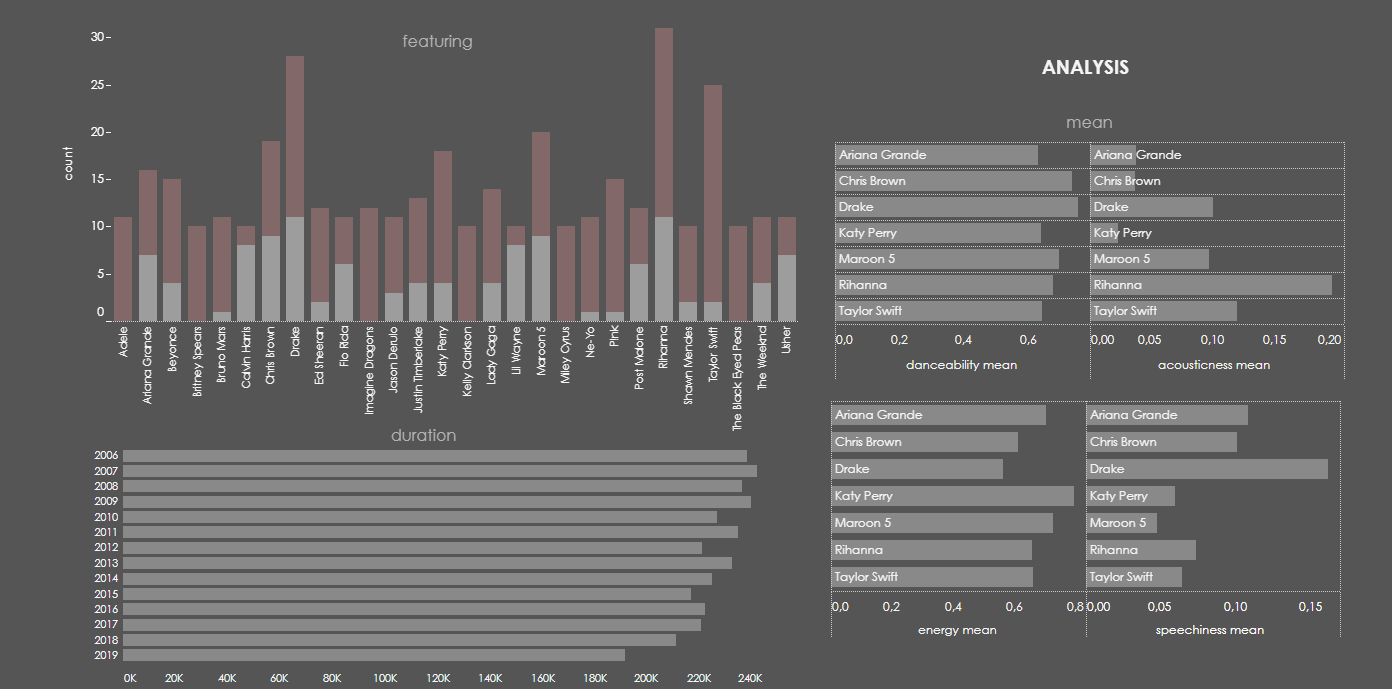

This screenshot's page, from the dashboard's own definition file:
{"tool":"tableau","page":{"name":"03","canvas":[1000,1000],"units":"permille","ordinal":2},"visuals":[{"type":"text","box":[268.4,22,93.5,92.9]},{"type":"worksheet","title":"feat","mark":"Bar","rows":["Number of Records"],"cols":["main_artist"],"box":[41.6,23.7,535.1,670.6]},{"type":"text","box":[659.7,47.3,248.5,113.2]},{"type":"worksheet","title":"mean_1","mark":"Bar","rows":["main_artist"],"cols":["danceability","acousticness"],"box":[602.6,158.8,368.8,400.3]},{"type":"worksheet","title":"mean_2","mark":"Bar","rows":["main_artist"],"cols":["energy","speechiness"],"box":[600,586.1,368.8,342.9]},{"type":"text","box":[258,594.6,93.5,81.1]}]}

Visuals, with their boxes on the dashboard's canvas, which has no fixed pixel size, in thousandths of its width and height (x1, y1, x2, y2). These are canvas units, not pixel positions in the 1392x689 screenshot, which may show the page scaled, cropped or inside an application window:
text: detection(268, 22, 362, 115)
"feat" worksheet (Bar marks): detection(42, 24, 577, 694)
text: detection(660, 47, 908, 160)
"mean_1" worksheet (Bar marks): detection(603, 159, 971, 559)
"mean_2" worksheet (Bar marks): detection(600, 586, 969, 929)
text: detection(258, 595, 352, 676)
